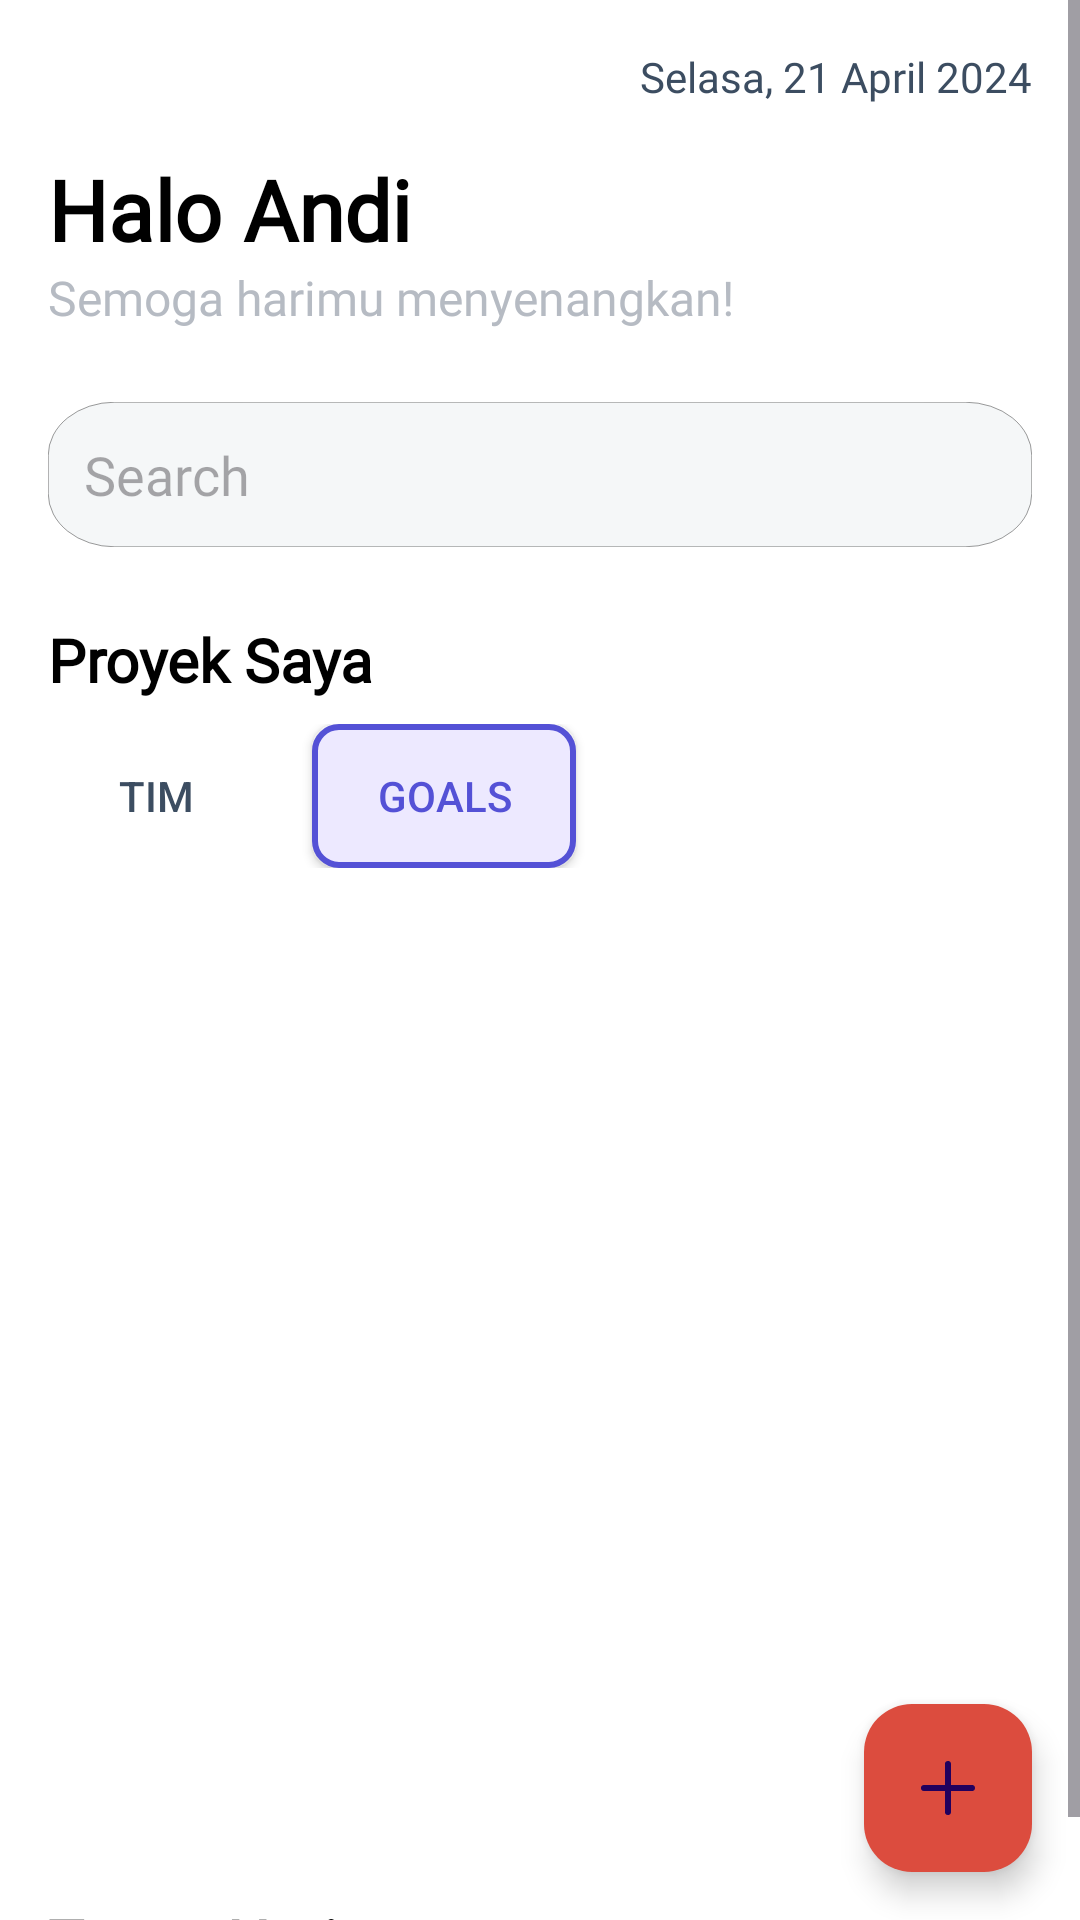

Icon bounding boxes for this 1080 x 1920 phone screenshot, format (x1, y1, x2, y2):
add tugas: (864, 1704, 1032, 1872)
